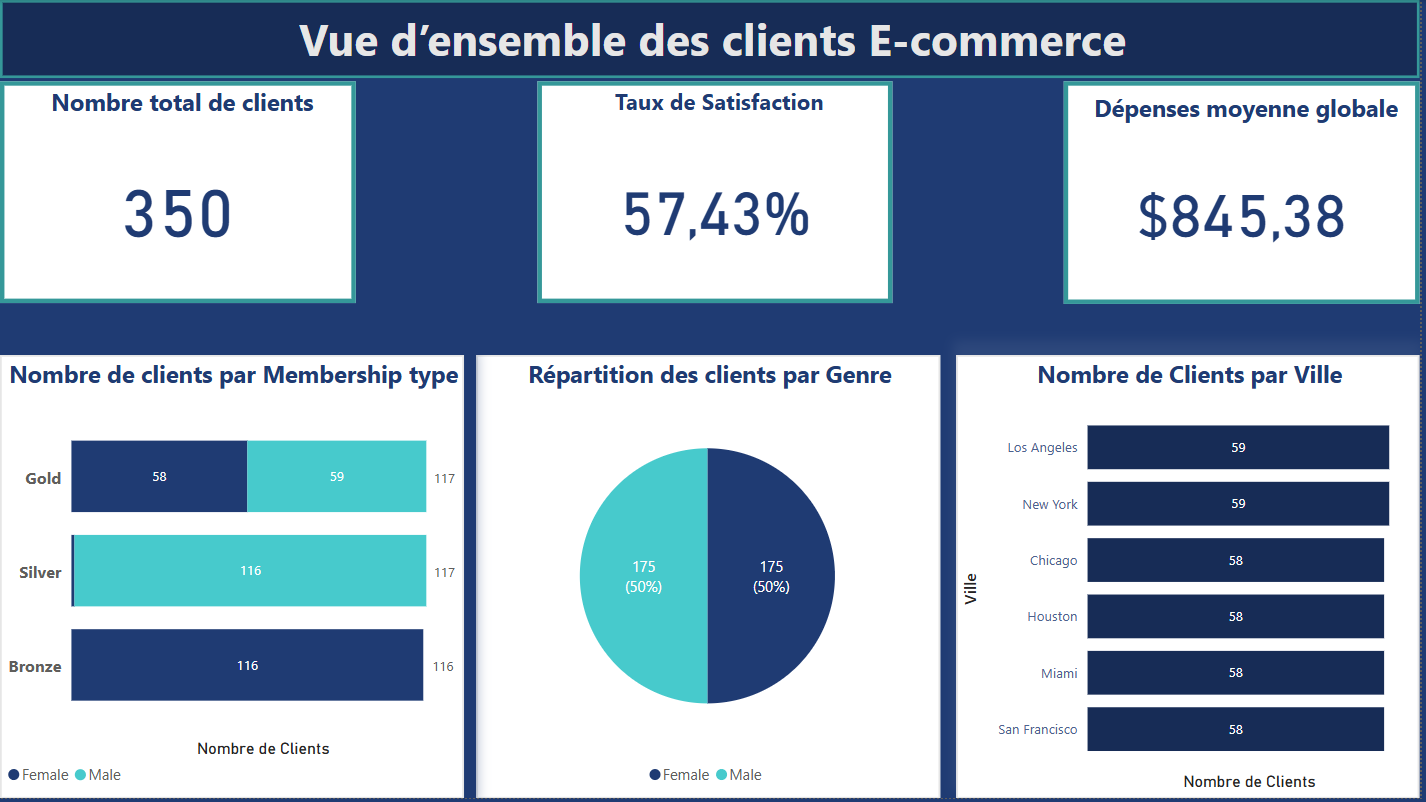

The page's visual inventory and layout, read from the dashboard file:
{"tool":"powerbi","page":{"name":"Vue d’ensemble des clients","canvas":[1280,720],"ordinal":1},"visuals":[{"type":"card","title":"Nombre total de clients ","fields":{"Values":["CountNonNull(e_commerce_Customer_Behavior.Customer ID)"]},"box":[0,73.2,320.6,200],"z":0},{"type":"pieChart","title":"Répartition des clients par Genre","fields":{"Category":["e_commerce_Customer_Behavior.Gender"],"Y":["CountNonNull(e_commerce_Customer_Behavior.Customer ID)"]},"box":[429.9,320.6,418,400],"z":1000},{"type":"barChart","title":"Nombre de Clients par Ville","fields":{"Category":["e_commerce_Customer_Behavior.City"],"Y":["CountNonNull(e_commerce_Customer_Behavior.Customer ID)"]},"box":[862.1,320.6,417.9,400],"z":2000},{"type":"barChart","title":"Nombre de clients par Membership type","fields":{"Category":["e_commerce_Customer_Behavior.Membership Type"],"Y":["CountNonNull(e_commerce_Customer_Behavior.Customer ID)"],"Series":["e_commerce_Customer_Behavior.Gender"]},"box":[0,320.6,418,400],"z":3000},{"type":"card","title":"Dépenses moyenne globale","fields":{"Values":["e_commerce_Customer_Behavior.Dépense Moyenne globale"]},"box":[959.4,73.2,320.6,200.5],"z":4000},{"type":"textbox","title":"Vue d’ensemble des clients E-commerce","box":[0,0,1280.3,70],"z":5000},{"type":"card","title":"Taux de Satisfaction ","fields":{"Values":["e_commerce_Customer_Behavior.Taux de Satisfaction Note"]},"box":[485.1,73.2,320,200],"z":6000}]}

Visuals, with their boxes in screenshot pixels (x1, y1, x2, y2), scaled from the page's 1280x720 canvas onto the 1426x802 screenshot:
"Nombre total de clients " card: [0, 82, 357, 304]
"Répartition des clients par Genre" pieChart: [479, 357, 945, 801]
"Nombre de Clients par Ville" barChart: [960, 357, 1425, 801]
"Nombre de clients par Membership type" barChart: [0, 357, 466, 801]
"Dépenses moyenne globale" card: [1069, 82, 1425, 305]
"Vue d’ensemble des clients E-commerce" textbox: [0, 0, 1425, 78]
"Taux de Satisfaction " card: [540, 82, 897, 304]
